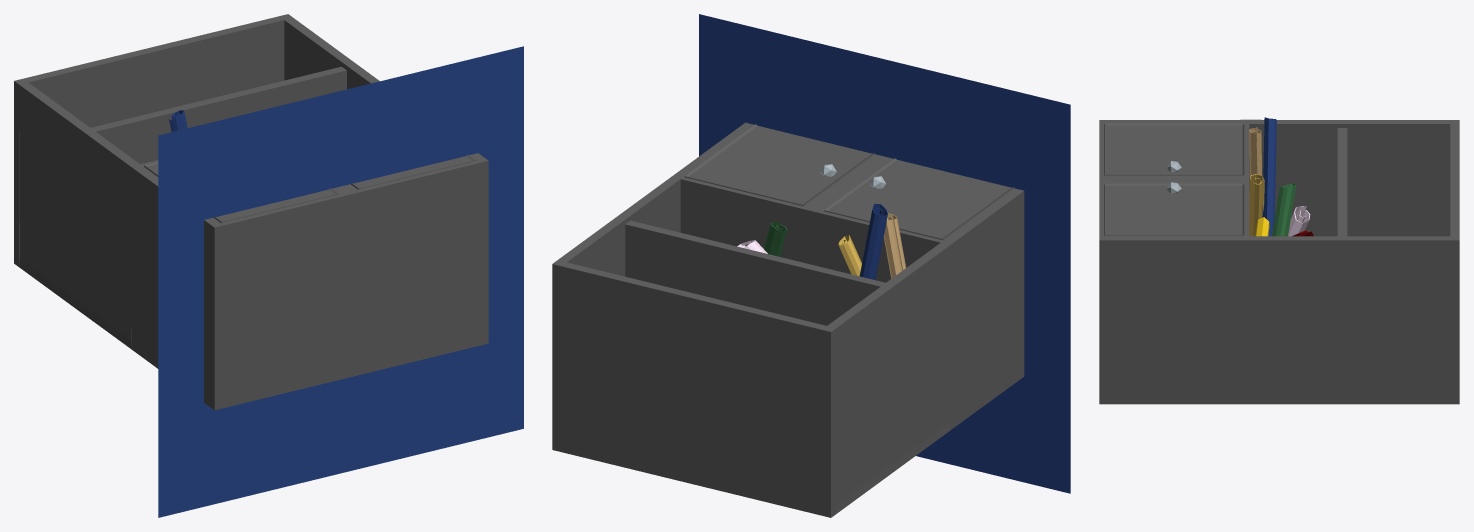
Rendered from UtilityRoom_Bookcase.fbx.
3 views of the same model, side by side, from view 1: azimuth 30°, elevation 25°; view 2: azimuth 150°, elevation 25°; view 3: azimuth 270°, elevation 25° (orthographic). The views are drawn at different scales.
Parts seen in each view (by area): view 1: Plane.304, Plane.278; view 2: Plane.304, Plane.278; view 3: Plane.304.
Boxes of the visible parts, box(x1,y1,x2,y2) form: Plane.304: box(14, 14, 488, 410); Plane.278: box(158, 46, 523, 517); Plane.304: box(552, 122, 1024, 517); Plane.278: box(699, 14, 1070, 493); Plane.304: box(1099, 117, 1459, 404).
Bounding box in the file's own units: 2 × 2 × 1.9.
